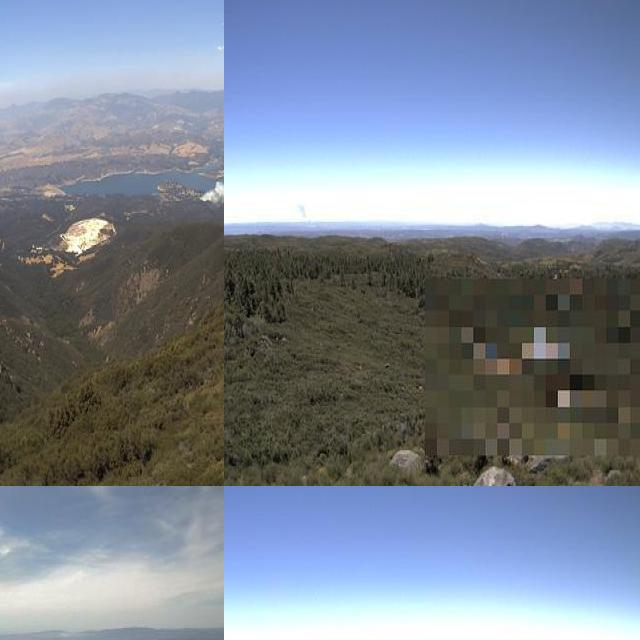smoke: (290, 199, 310, 225)
